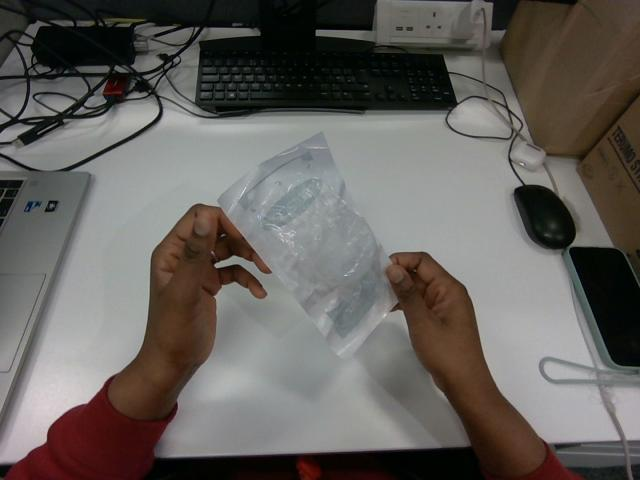gallipot: (218, 133, 396, 357)
